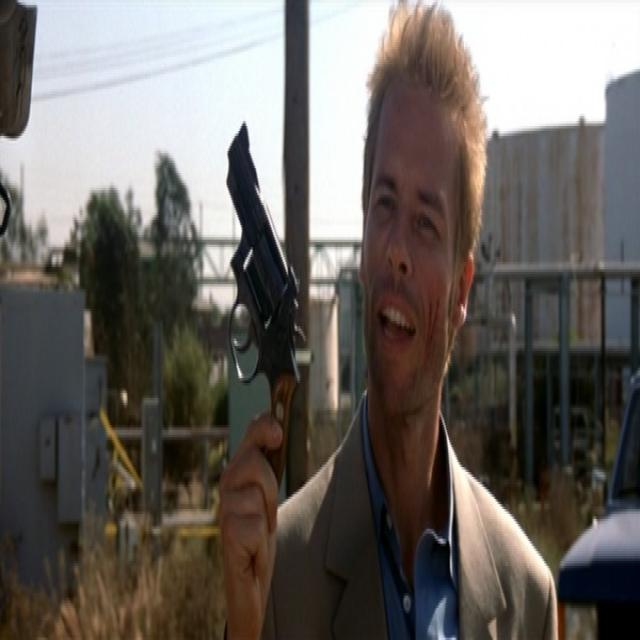weapons: (202, 79, 317, 572)
